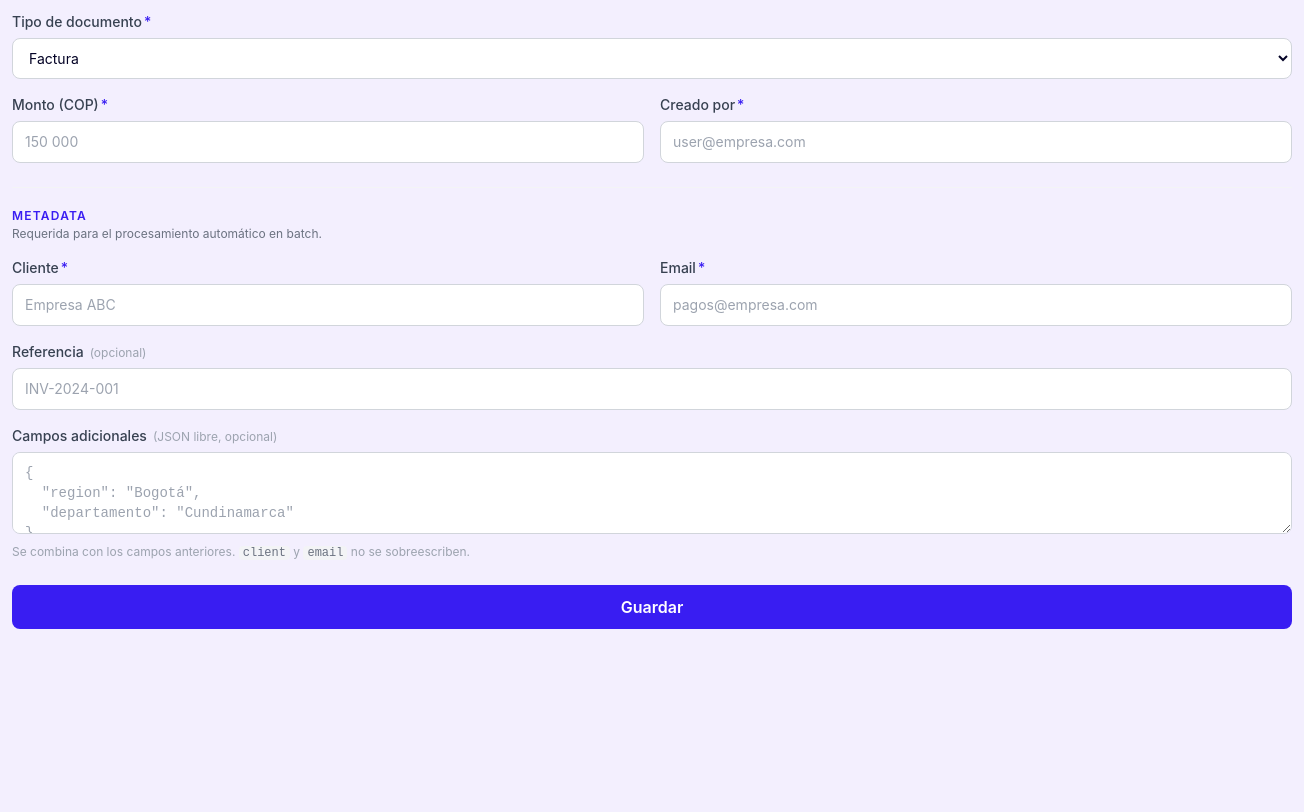
DocumentForm › validation errors › shows error when amount is empty
Click the button "Guardar" at (652, 607), box [12,585,1292,629]
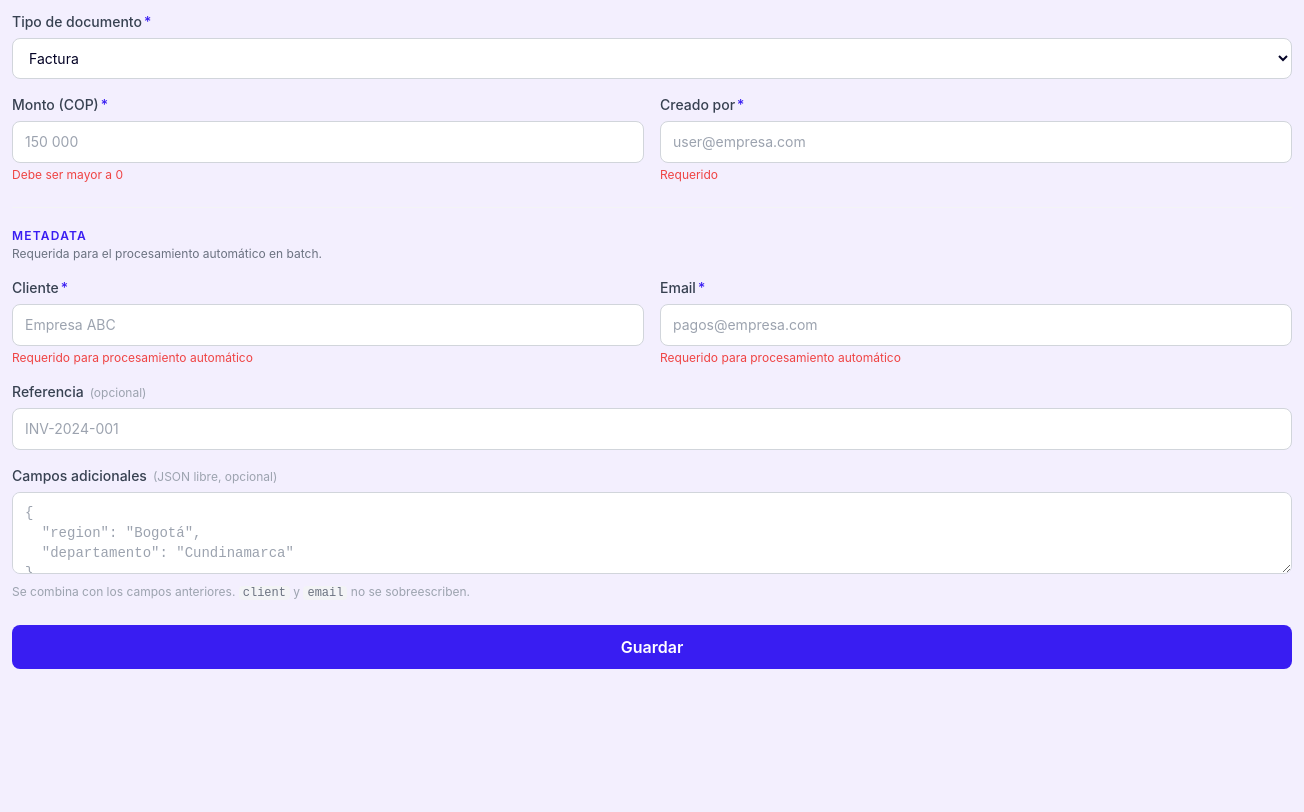
Check: the text "Debe ser mayor a 0" is shown, box [12,167,123,182]
